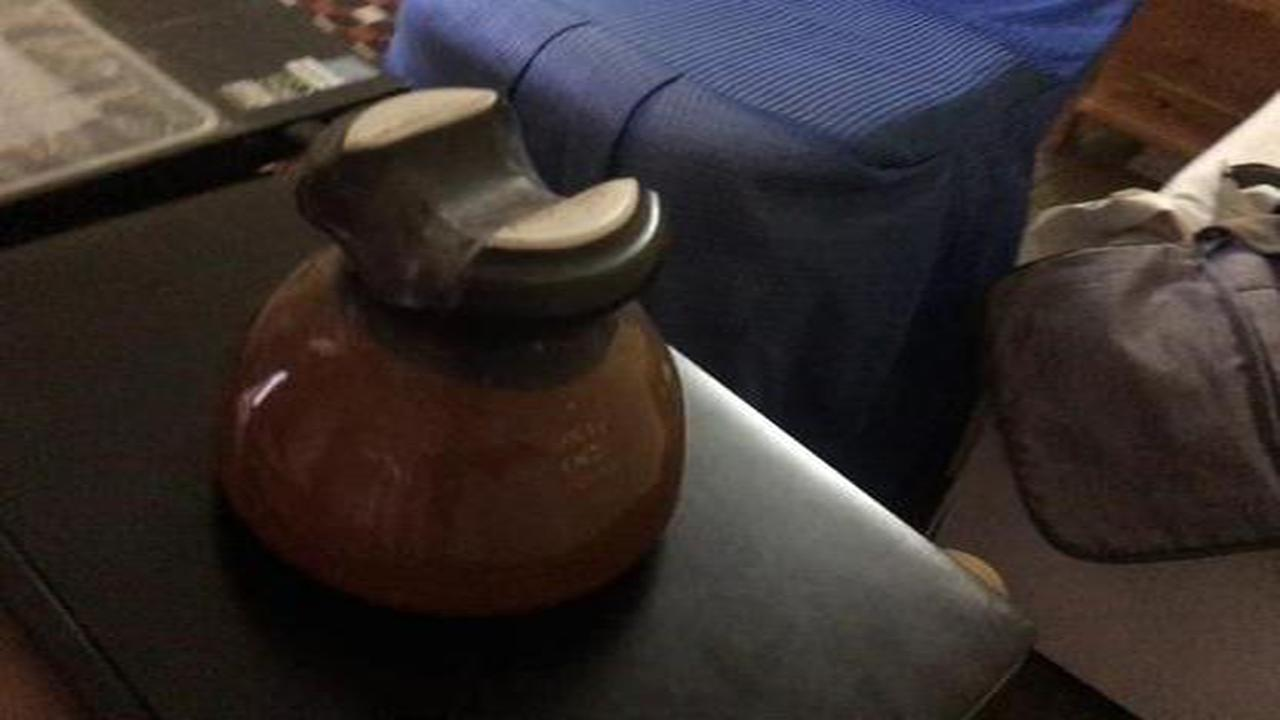insulator_pin: (201, 65, 714, 634)
